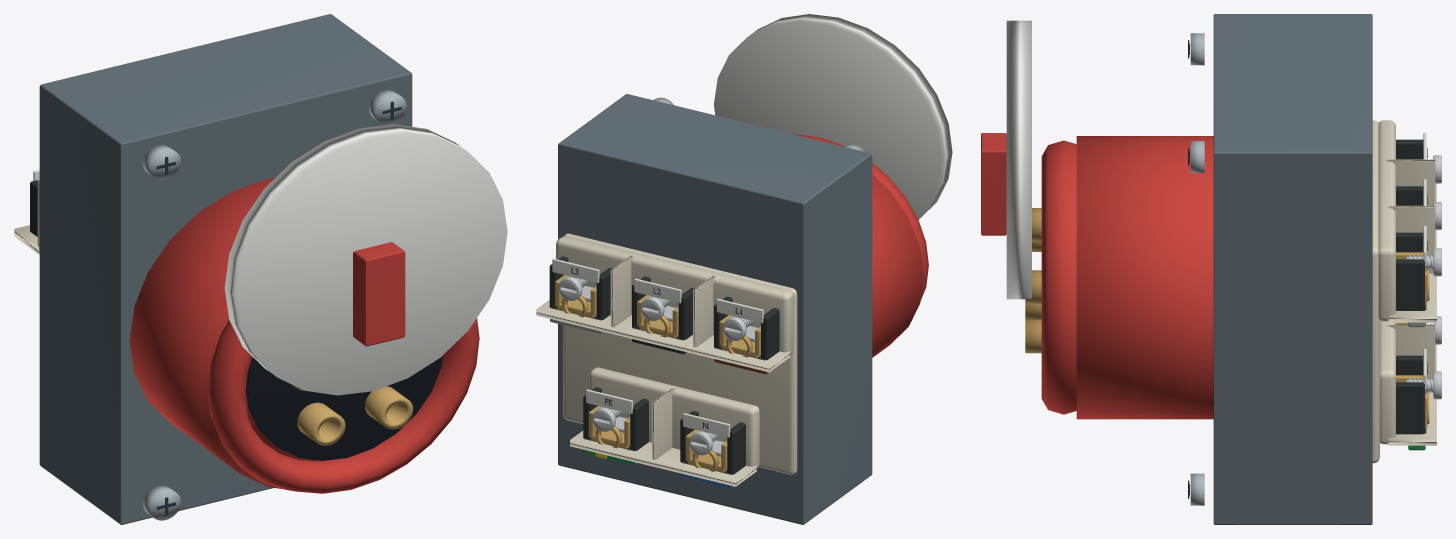
File: socket3_default.glb
The picture shows the model from 3 angles, left to right: view 1: azimuth 30°, elevation 25°; view 2: azimuth 150°, elevation 25°; view 3: azimuth 270°, elevation 25°; orthographic projection. The views are drawn at different scales.
Visible parts, largest first — view 1: part:body, part:cover, part:body · Original b2804608, detail:socket-contact-system · Detail machined brass, part:mounting · Original 2a8198d3, part:terminals · Original 5a609f27; view 2: part:body, part:terminals · Original 5a609f27, part:cover, part:body · Original b2804608, detail:terminal-clamp:L1 · Detail moulded engineering polyme, detail:terminal-clamp:N · Detail moulded engineering polymer, detail:terminal-clamp:PE · Detail moulded engineering polyme, detail:terminal-clamp:L2 · Detail moulded engineering polyme, detail:terminal-clamp:L3 · Detail moulded engineering polyme, detail:terminal-clamp:N · Detail machined brass, detail:terminal-clamp:PE · Detail machined brass, detail:terminal-clamp:L2 · Detail machined brass (+12 smaller); view 3: part:body, part:body · Original b2804608, part:terminals · Original 5a609f27, part:cover, detail:terminal-clamp:PE · Detail moulded engineering polyme, detail:terminal-clamp:L3 · Detail moulded engineering polyme, detail:socket-contact-system · Detail machined brass, part:mounting · Original 2a8198d3, detail:terminal-clamp:L1 · Detail moulded engineering polyme, detail:terminal-clamp:L2 · Detail moulded engineering polyme.
Part boxes in pixels (box(x1,y1,x2,y2)): part:body: box(39, 14, 442, 524); part:cover: box(224, 124, 507, 395); part:body · Original b2804608: box(129, 178, 479, 493); detail:socket-contact-system · Detail machined brass: box(291, 384, 413, 445); part:mounting · Original 2a8198d3: box(143, 90, 406, 520); part:terminals · Original 5a609f27: box(14, 180, 39, 254); part:body: box(558, 94, 872, 524); part:terminals · Original 5a609f27: box(536, 233, 797, 486); part:cover: box(714, 14, 952, 219); part:body · Original b2804608: box(794, 134, 928, 357); detail:terminal-clamp:L1 · Detail moulded engineering polyme: box(714, 296, 779, 360); detail:terminal-clamp:N · Detail moulded engineering polymer: box(680, 411, 745, 474); detail:terminal-clamp:PE · Detail moulded engineering polyme: box(583, 387, 648, 450); detail:terminal-clamp:L2 · Detail moulded engineering polyme: box(632, 276, 694, 354); detail:terminal-clamp:L3 · Detail moulded engineering polyme: box(549, 256, 612, 320); detail:terminal-clamp:N · Detail machined brass: box(685, 429, 727, 472); detail:terminal-clamp:PE · Detail machined brass: box(588, 406, 630, 448); detail:terminal-clamp:L2 · Detail machined brass: box(637, 295, 678, 338); part:body: box(1213, 14, 1372, 524); part:body · Original b2804608: box(1041, 136, 1213, 419); part:terminals · Original 5a609f27: box(1372, 120, 1436, 463); part:cover: box(981, 20, 1031, 299); detail:terminal-clamp:PE · Detail moulded engineering polyme: box(1396, 355, 1426, 434); detail:terminal-clamp:L3 · Detail moulded engineering polyme: box(1396, 232, 1426, 310); detail:socket-contact-system · Detail machined brass: box(1025, 208, 1041, 353); part:mounting · Original 2a8198d3: box(1190, 33, 1204, 505); detail:terminal-clamp:L1 · Detail moulded engineering polyme: box(1396, 139, 1423, 159); detail:terminal-clamp:L2 · Detail moulded engineering polyme: box(1396, 186, 1423, 205).
Bounding box in the file's own units: 0.6092 × 0.8566 × 0.8514.
